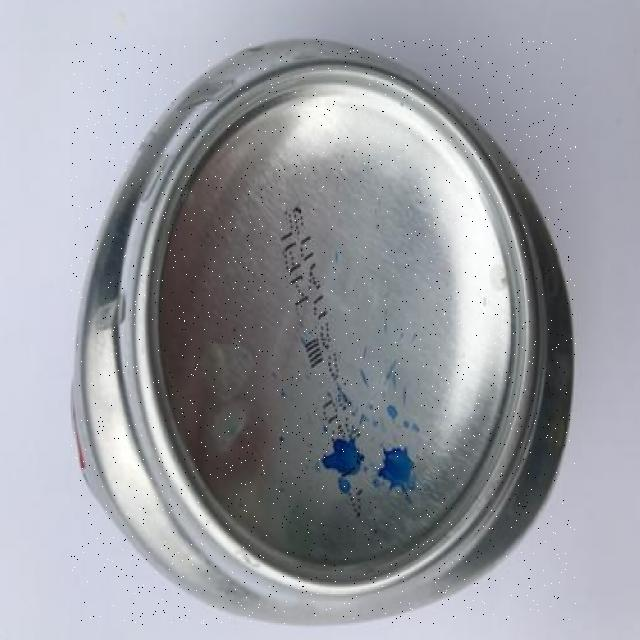metal: (72, 36, 576, 624)
